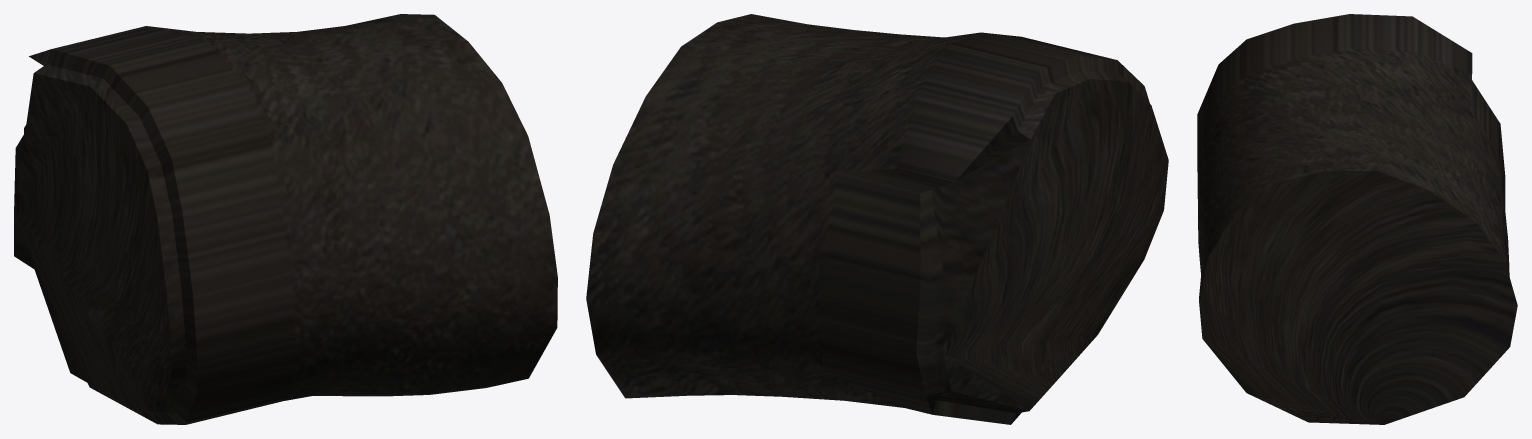
File: BicepIzq.obj
3 renders of one model, left to right at view 1: azimuth 30°, elevation 25°; view 2: azimuth 150°, elevation 25°; view 3: azimuth 270°, elevation 25°, orthographic. The views are drawn at different scales.
Parts seen in each view (by area): view 1: BicepIzq:Mesh; view 2: BicepIzq:Mesh; view 3: BicepIzq:Mesh.
Part boxes in pixels (box(x1,y1,x2,y2)): BicepIzq:Mesh: box(14, 14, 557, 424); BicepIzq:Mesh: box(586, 14, 1168, 424); BicepIzq:Mesh: box(1197, 14, 1517, 424).
Bounding box in the file's own units: 0.5071 × 0.4921 × 0.4979.
Materials: 1 (1 with a texture image).
